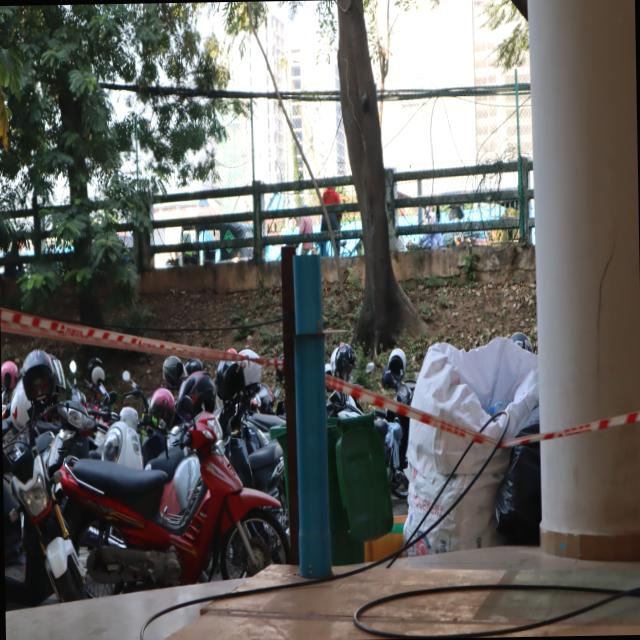pole: (260, 242, 350, 407)
